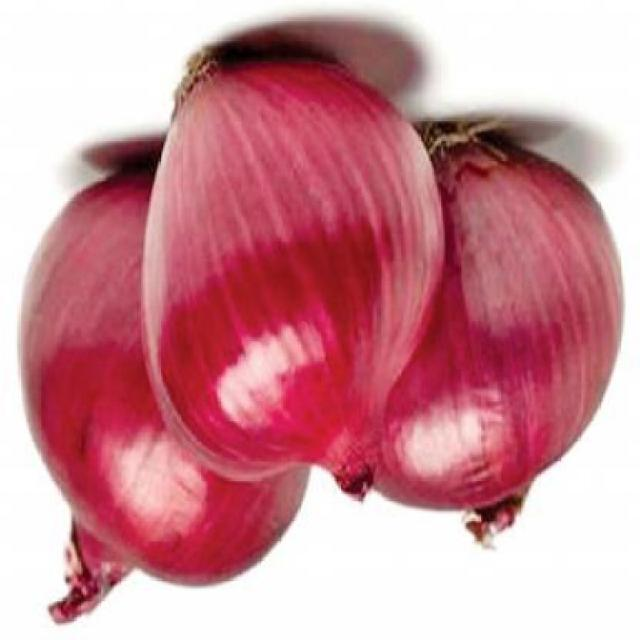onion: (18, 130, 328, 608), (142, 56, 440, 487), (388, 139, 618, 530)
